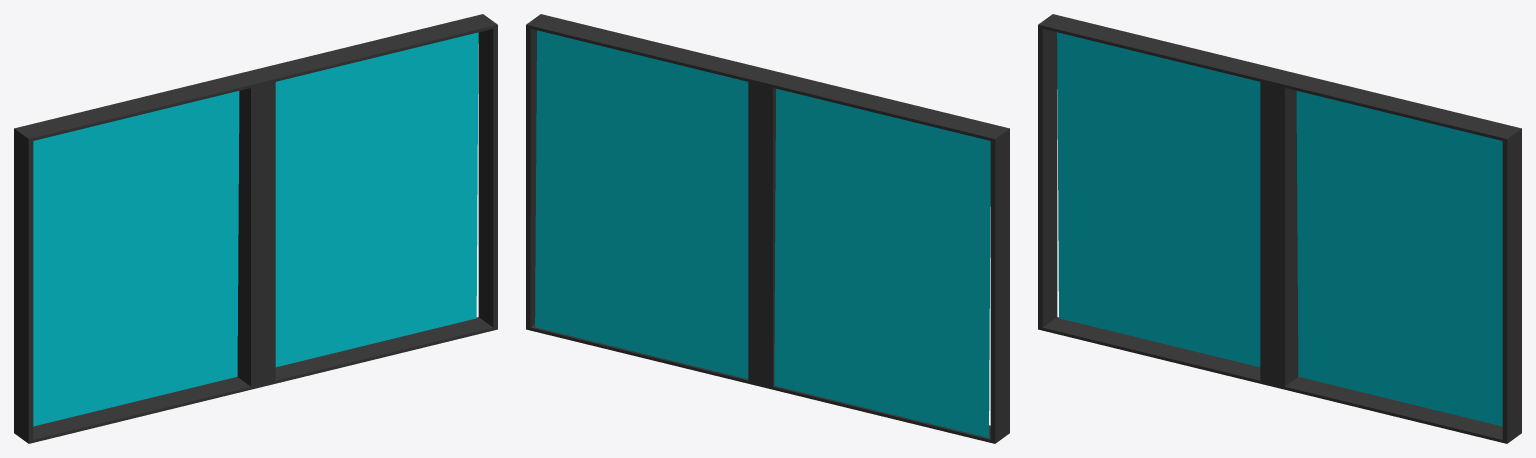
The model's file is Glass Window.fbx.
3 views of the same model, side by side, from view 1: azimuth 30°, elevation 25°; view 2: azimuth 150°, elevation 25°; view 3: azimuth 330°, elevation 25° (orthographic).
Parts seen in each view (by area): view 1: Plane.005, Plane.006, Cube.019; view 2: Plane.005, Plane.006, Cube.019; view 3: Plane.006, Plane.005, Cube.019.
Part boxes in pixels (x1=…): Plane.005: x1=33, y1=91, x2=239, y2=426; Plane.006: x1=275, y1=32, x2=478, y2=367; Cube.019: x1=14, y1=14, x2=497, y2=443; Plane.005: x1=774, y1=88, x2=990, y2=437; Plane.006: x1=535, y1=30, x2=748, y2=378; Cube.019: x1=526, y1=14, x2=1009, y2=443; Plane.006: x1=1296, y1=91, x2=1502, y2=426; Plane.005: x1=1057, y1=32, x2=1260, y2=367; Cube.019: x1=1038, y1=14, x2=1521, y2=443.
Bounding box in the file's own units: 436 × 271 × 23.57.
